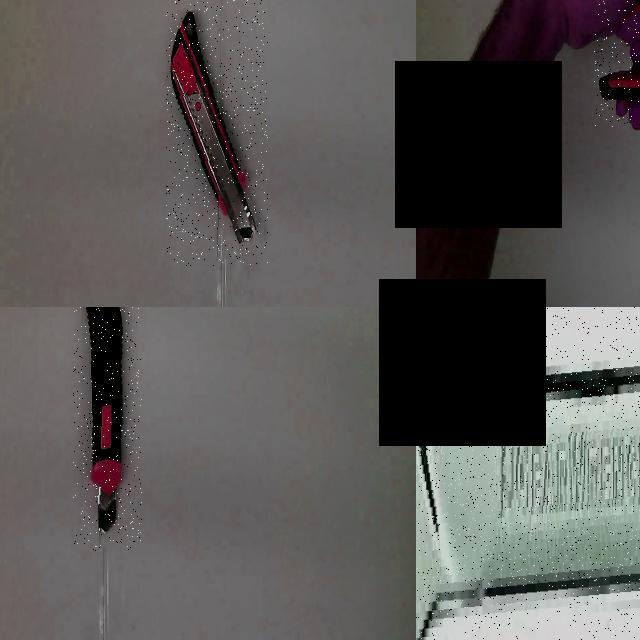estilete: (171, 11, 255, 242), (87, 307, 124, 532)
